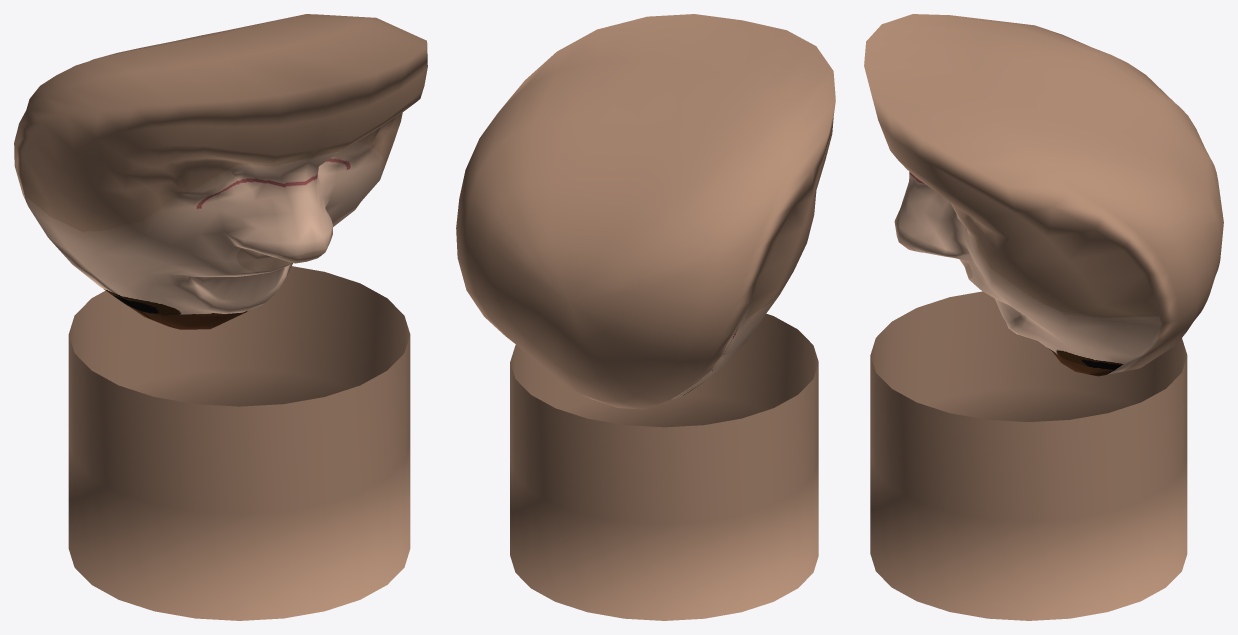
Rendered from 89a21529-cf16-4455-bfab-27b57c9e2b67.glb.
3 views of the same model, side by side, from view 1: azimuth 30°, elevation 25°; view 2: azimuth 150°, elevation 25°; view 3: azimuth 270°, elevation 25° (orthographic). The views are drawn at different scales.
Visible parts, largest first — view 1: Face; view 2: Face; view 3: Face.
Boxes of the visible parts, x1,y1,x2,y2 form: Face: [14, 14, 427, 620]; Face: [456, 14, 835, 620]; Face: [864, 14, 1223, 620].
Bounding box in the file's own units: 0.15 × 0.2222 × 0.1476.
1 material, 1 textured.
